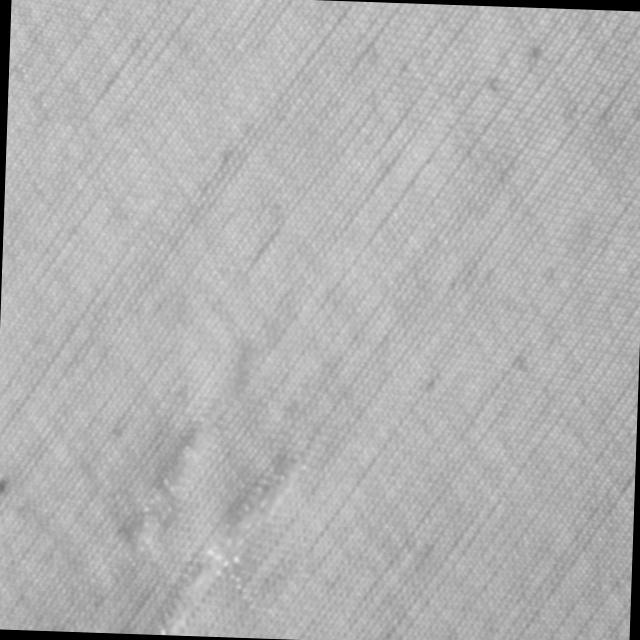thread error: (161, 434, 309, 638), (108, 455, 194, 592)
